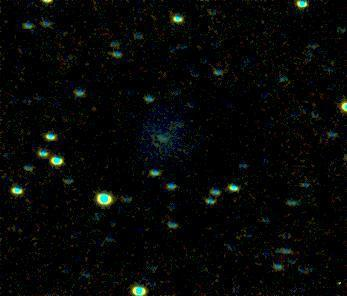star: (142, 130, 172, 160)
